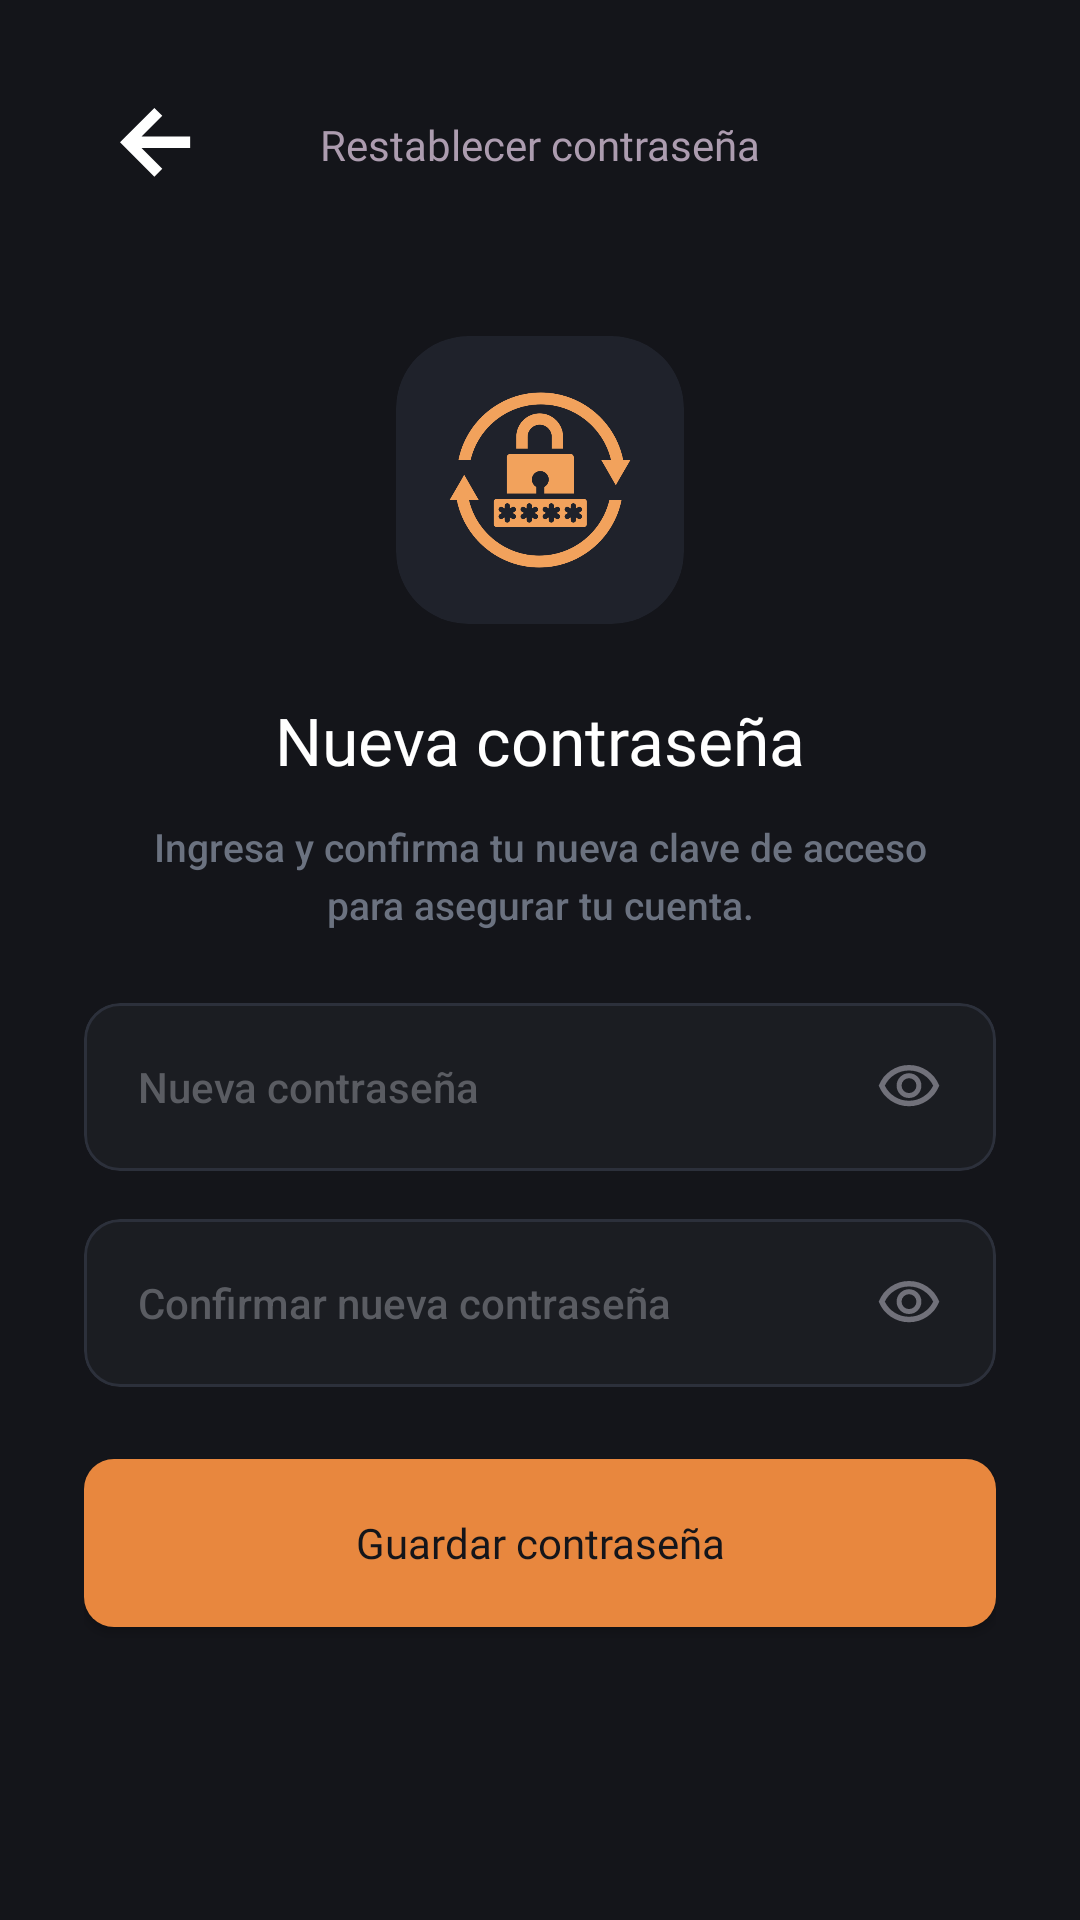

Icons on this 1080 × 1920 Android screen, each with the point to tap as point (x, y):
Icono de restablecimiento: point (540, 480)
Mostrar contraseña: point (909, 1085), point (909, 1301)
Volver: point (155, 142)
